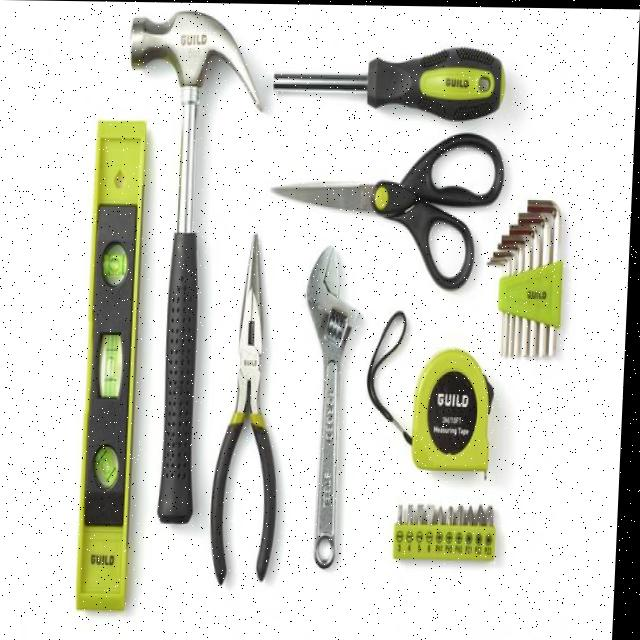Screwdriver: (275, 46, 506, 119)
